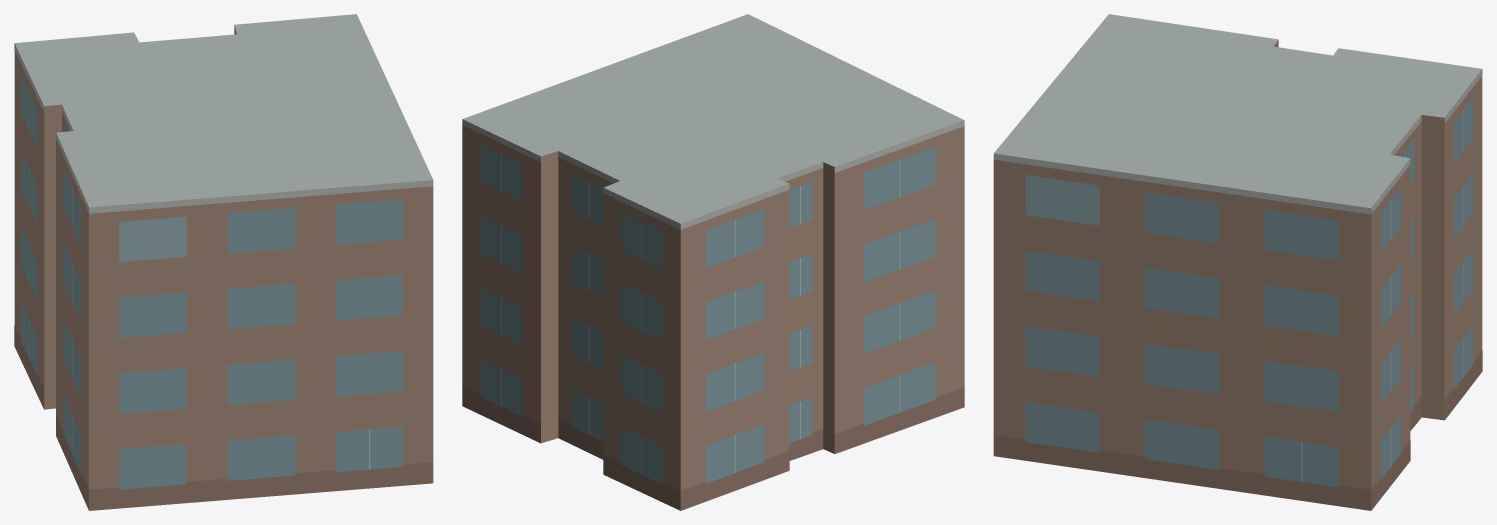
Rendered from survey-upis-32880519.glb.
The picture shows the model from 3 angles, left to right: view 1: azimuth 30°, elevation 25°; view 2: azimuth 150°, elevation 25°; view 3: azimuth 270°, elevation 25°; orthographic projection. The views are drawn at different scales.
Parts seen in each view (by area): view 1: survey-upis-32880519.tmp; view 2: survey-upis-32880519.tmp; view 3: survey-upis-32880519.tmp.
Part boxes in pixels (<box>): survey-upis-32880519.tmp: <box>14,14,433,510</box>; survey-upis-32880519.tmp: <box>462,14,964,510</box>; survey-upis-32880519.tmp: <box>993,14,1482,510</box>.
Size of the model in its own units: 16.33 by 11.85 by 17.36.
